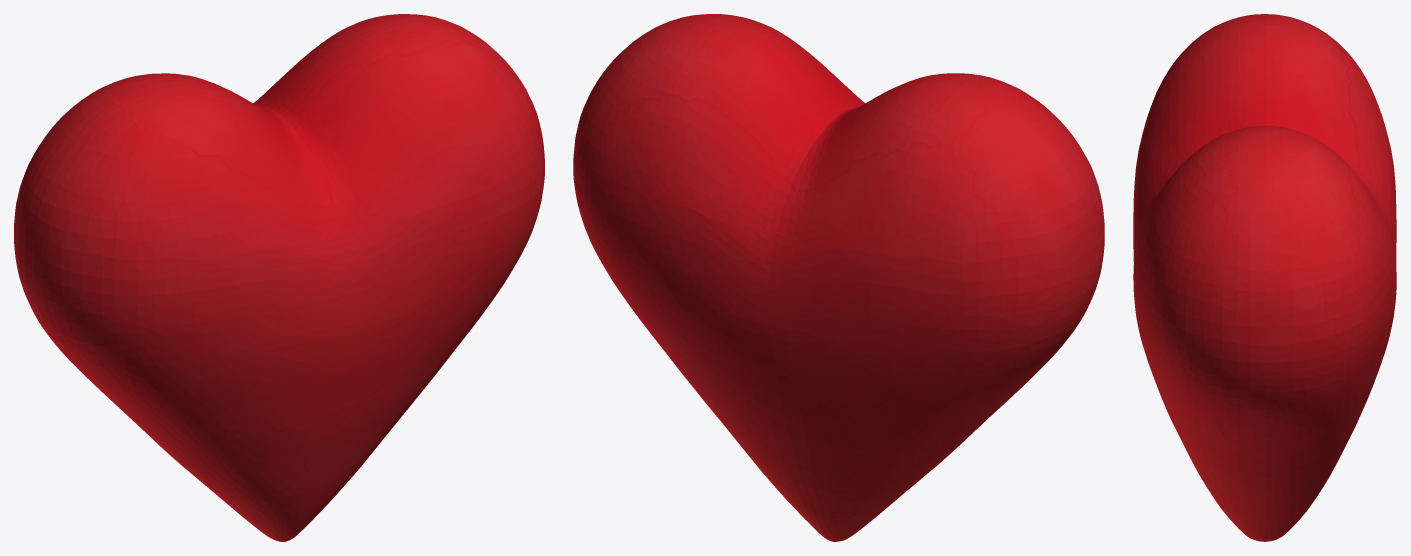
The model's file is Heart_3D.glb.
3 views of the same model, side by side, from view 1: azimuth 30°, elevation 25°; view 2: azimuth 150°, elevation 25°; view 3: azimuth 270°, elevation 25° (orthographic). The views are drawn at different scales.
Visible parts, largest first — view 1: world; view 2: world; view 3: world.
Part boxes in pixels (<box>): world: <box>14,14,544,541</box>; world: <box>573,14,1104,541</box>; world: <box>1133,14,1396,541</box>.
Size of the model in its own units: 1 by 0.9351 by 0.4869.
1 material, 1 textured.
